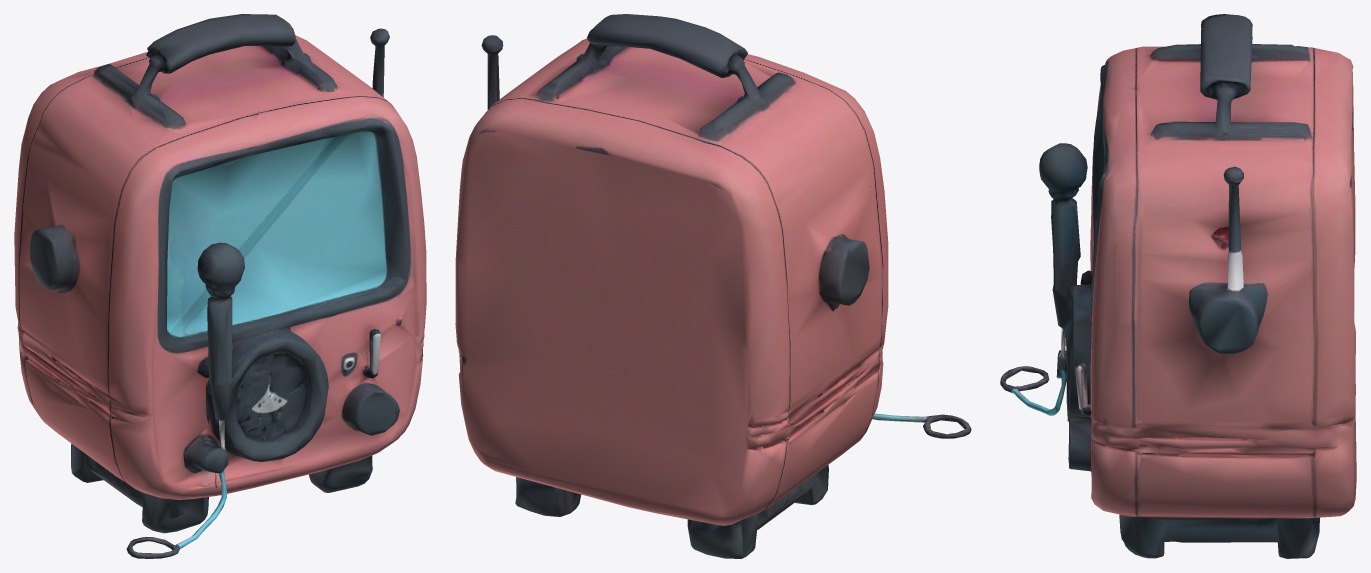
File: karaoke.glb
The picture shows the model from 3 angles, left to right: view 1: azimuth 30°, elevation 25°; view 2: azimuth 150°, elevation 25°; view 3: azimuth 270°, elevation 25°; orthographic projection. The views are drawn at different scales.
Parts seen in each view (by area): view 1: Mesh_0; view 2: Mesh_0; view 3: Mesh_0.
Boxes of the visible parts, <box> form: Mesh_0: <box>14,14,426,558</box>; Mesh_0: <box>455,14,971,558</box>; Mesh_0: <box>1000,14,1356,558</box>.
Bounding box in the file's own units: 1.68 × 2 × 1.37.
Materials: 1 (1 with a texture image).
